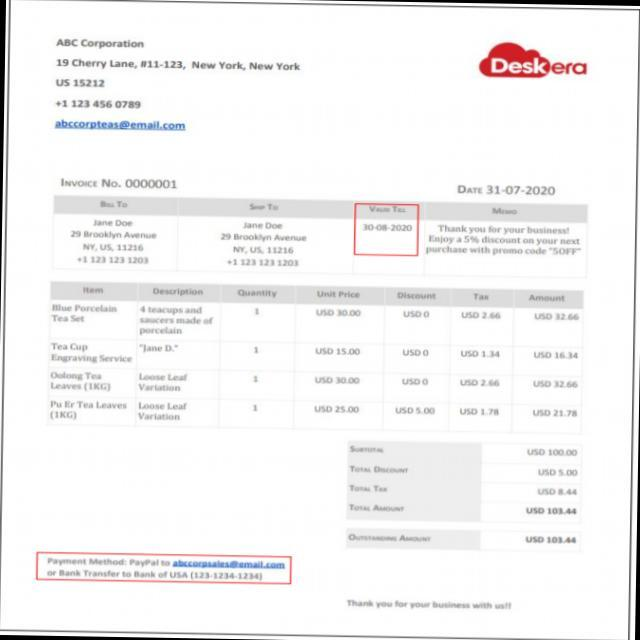customer_address: (214, 231, 308, 254), (68, 230, 157, 251)
customer_name: (74, 216, 162, 229), (230, 219, 297, 233)
invoice_date: (484, 182, 562, 198)
invoice_number: (124, 176, 178, 192)
invoice_subtotal: (524, 442, 588, 462)
invoice_total: (517, 526, 586, 548), (524, 502, 583, 520)
item_description: (136, 303, 216, 428)
item_quantity: (238, 303, 272, 424)
item_total_price: (526, 304, 584, 420)
item_unit_price: (308, 302, 370, 419)
supplier_address: (53, 55, 307, 94)
supplier_name: (52, 34, 150, 50)
tax_amount: (534, 482, 583, 498)
